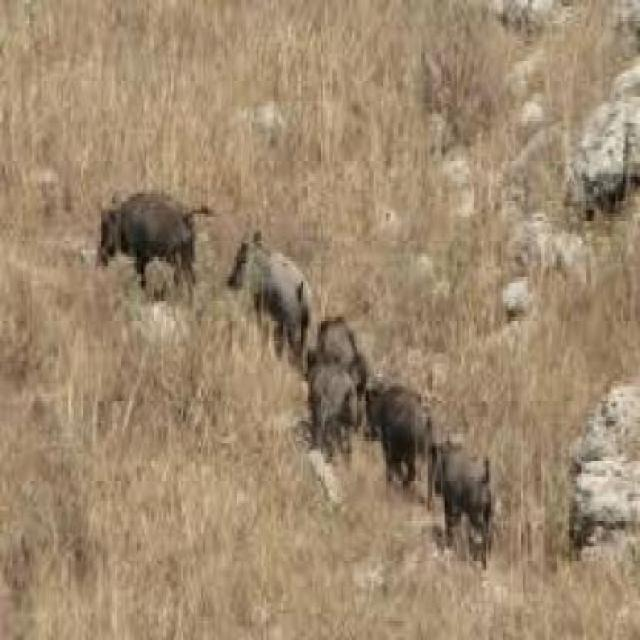wildboar: (94, 188, 214, 302), (224, 227, 319, 371), (422, 429, 503, 571), (359, 376, 448, 492), (293, 359, 364, 461), (305, 312, 372, 394)
